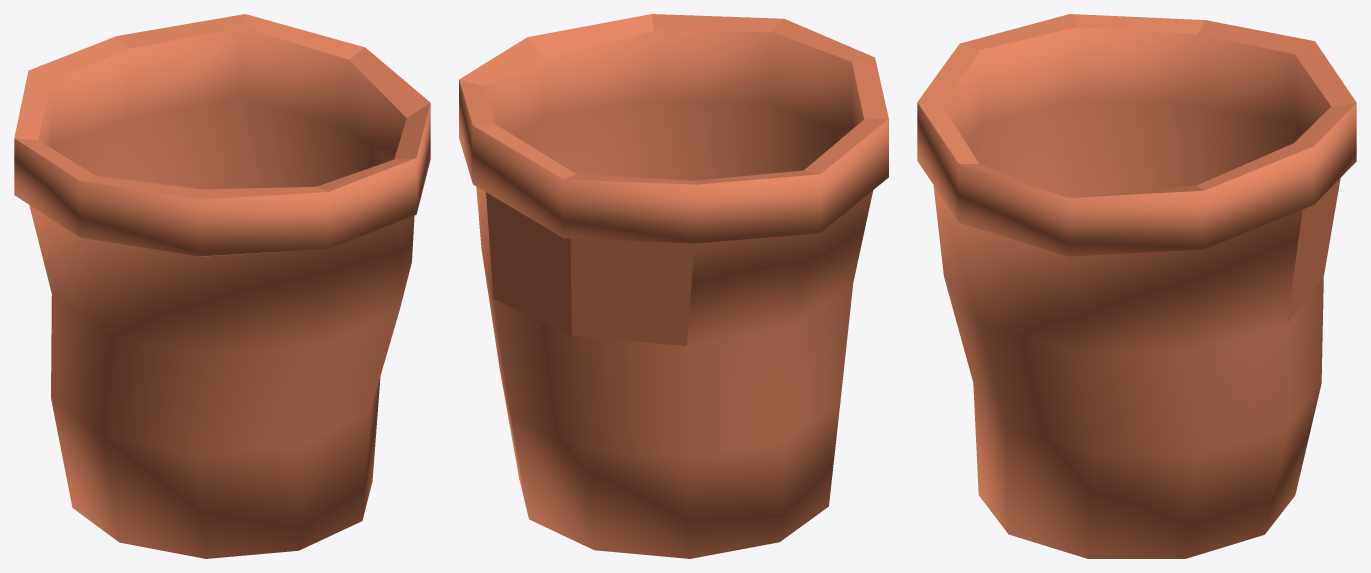
File: PotEmpty.fbx
3 renders of one model, left to right at view 1: azimuth 30°, elevation 25°; view 2: azimuth 150°, elevation 25°; view 3: azimuth 270°, elevation 25°, orthographic. The views are drawn at different scales.
Parts seen in each view (by area): view 1: Cylinder.073; view 2: Cylinder.073; view 3: Cylinder.073.
Part boxes in pixels (box(x1,y1,x2,y2)): Cylinder.073: box(14, 14, 430, 558); Cylinder.073: box(459, 14, 888, 558); Cylinder.073: box(917, 14, 1356, 558).
Bounding box in the file's own units: 154 × 164 × 161.
